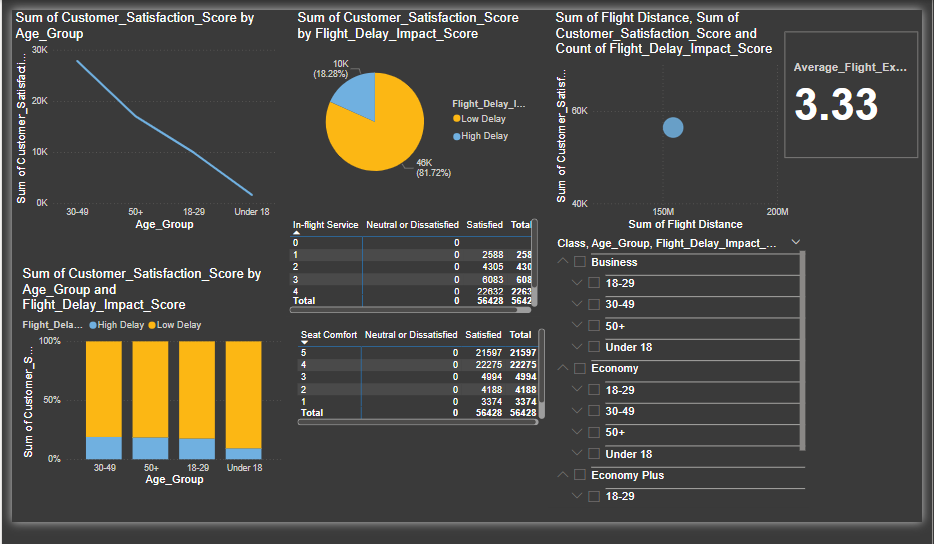

What the dashboard file says about the page in this screenshot:
{"tool":"powerbi","page":{"name":"Page 1","canvas":[1280,720],"ordinal":0},"visuals":[{"type":"hundredPercentStackedColumnChart","fields":{"Category":["airline_passenger_satisfaction.Age_Group"],"Series":["airline_passenger_satisfaction.Delay_Impact_Score"],"Y":["Sum(airline_passenger_satisfaction.Customer_Satisfaction_Score)"]},"box":[10.5,360,374.4,314.2],"z":0},{"type":"slicer","fields":{"Values":["airline_passenger_satisfaction.Class","airline_passenger_satisfaction.Age_Group","airline_passenger_satisfaction.Delay_Impact_Score"]},"box":[754.4,313.8,367.4,385.7],"z":1000},{"type":"lineChart","fields":{"Category":["airline_passenger_satisfaction.Age_Group"],"Y":["Sum(airline_passenger_satisfaction.Customer_Satisfaction_Score)"]},"box":[0,0,375,314],"z":2000},{"type":"pieChart","fields":{"Category":["airline_passenger_satisfaction.Flight_Delay_Impact_Score"],"Y":["Sum(airline_passenger_satisfaction.Customer_Satisfaction_Score)"]},"box":[396.2,0,337.5,272.5],"z":3000},{"type":"scatterChart","fields":{"Size":["CountNonNull(airline_passenger_satisfaction.Flight_Delay_Impact_Score)"],"Y":["Sum(airline_passenger_satisfaction.Customer_Satisfaction_Score)"],"X":["Sum(airline_passenger_satisfaction.Flight Distance)"]},"box":[759.3,0,337.7,314.2],"z":4000},{"type":"pivotTable","fields":{"Values":["Sum(airline_passenger_satisfaction.Customer_Satisfaction_Score)"],"Columns":["airline_passenger_satisfaction.Satisfaction"],"Rows":["airline_passenger_satisfaction.In-flight Service"]},"box":[385,288.8,358.8,142.5],"z":5000},{"type":"pivotTable","fields":{"Columns":["airline_passenger_satisfaction.Satisfaction"],"Rows":["airline_passenger_satisfaction.Seat Comfort"],"Values":["Sum(airline_passenger_satisfaction.Customer_Satisfaction_Score)"]},"box":[396.2,443.2,358.2,146.4],"z":6000},{"type":"cardVisual","fields":{"Data":["airline_passenger_satisfaction.Average_Flight_Experience_Score"]},"box":[1081.3,24.8,198.7,188.3],"z":7000}]}

Visuals, with their boxes on the page's 1280x720 design canvas (x1, y1, x2, y2). These are canvas units, not pixel positions in the 934x544 screenshot, which may show the page scaled, cropped or inside an application window:
hundredPercentStackedColumnChart - airline_passenger_satisfaction.Age_Group x airline_passenger_satisfaction.Delay_Impact_Score: 10 360 385 674
slicer - airline_passenger_satisfaction.Class x airline_passenger_satisfaction.Age_Group: 754 314 1122 700
lineChart - airline_passenger_satisfaction.Age_Group x Sum(airline_passenger_satisfaction.Customer_Satisfaction_Score): 0 0 375 314
pieChart - airline_passenger_satisfaction.Flight_Delay_Impact_Score x Sum(airline_passenger_satisfaction.Customer_Satisfaction_Score): 396 0 734 272
scatterChart - CountNonNull(airline_passenger_satisfaction.Flight_Delay_Impact_Score) x Sum(airline_passenger_satisfaction.Customer_Satisfaction_Score): 759 0 1097 314
pivotTable - Sum(airline_passenger_satisfaction.Customer_Satisfaction_Score) x airline_passenger_satisfaction.Satisfaction: 385 289 744 431
pivotTable - airline_passenger_satisfaction.Satisfaction x airline_passenger_satisfaction.Seat Comfort: 396 443 754 590
cardVisual - airline_passenger_satisfaction.Average_Flight_Experience_Score: 1081 25 1280 213
